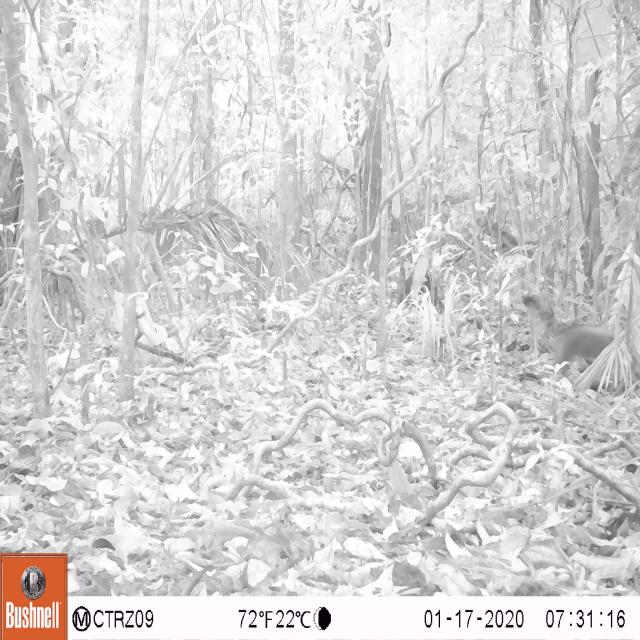South American Coati: (518, 286, 629, 393)
